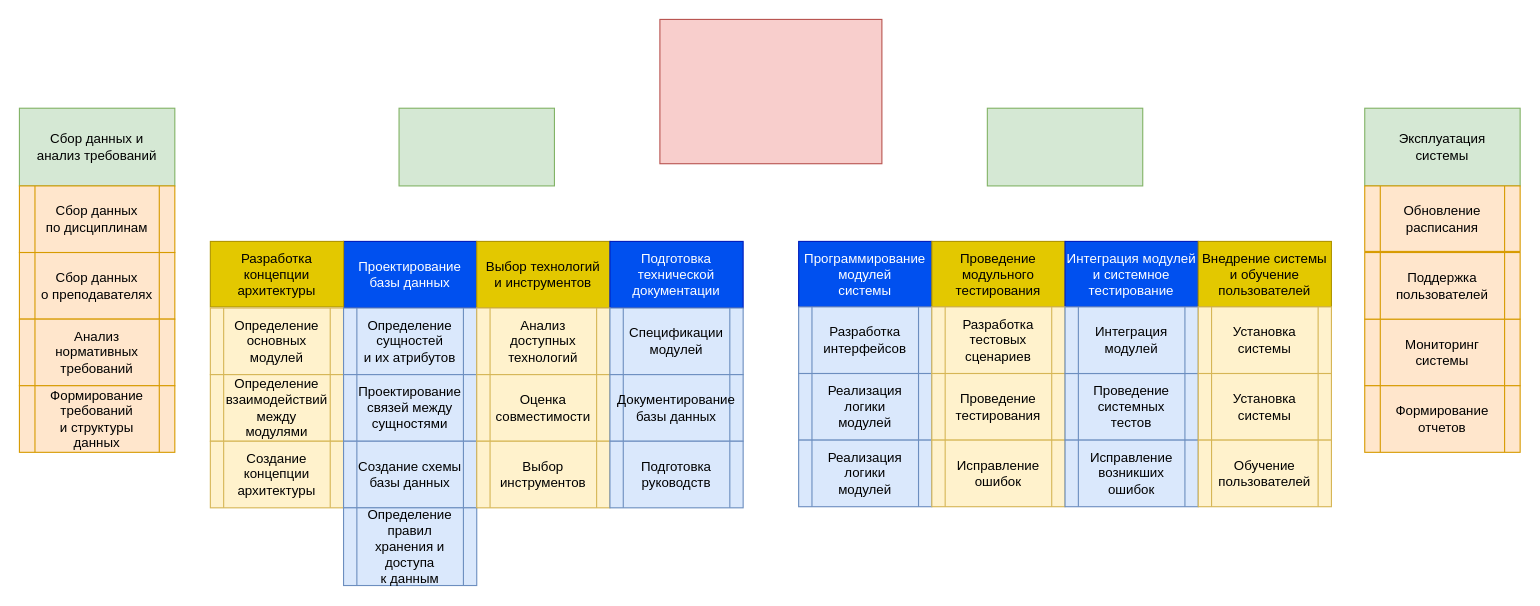
The diagram is 1540 pixels wide and 606 high, and some of its shapes have lost their labels. The centre of each missing label's shape, as x and y in pixels:
"Организация информационной системы электронного расписания ВУЗА" goes at (770,91).
"Проектирование системы автомотизированного расписания" goes at (476,146).
"Разработка и внедрение системы" goes at (1064,146).
